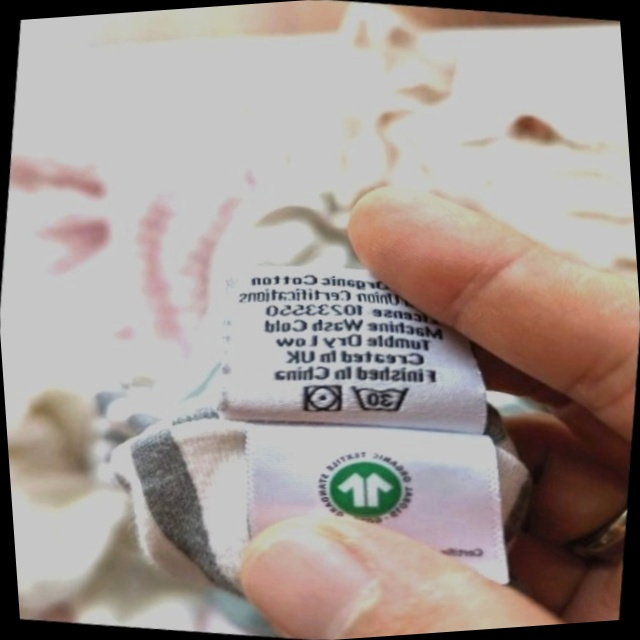30C: (345, 375, 417, 422)
tumble_dry_low: (297, 377, 348, 421)
